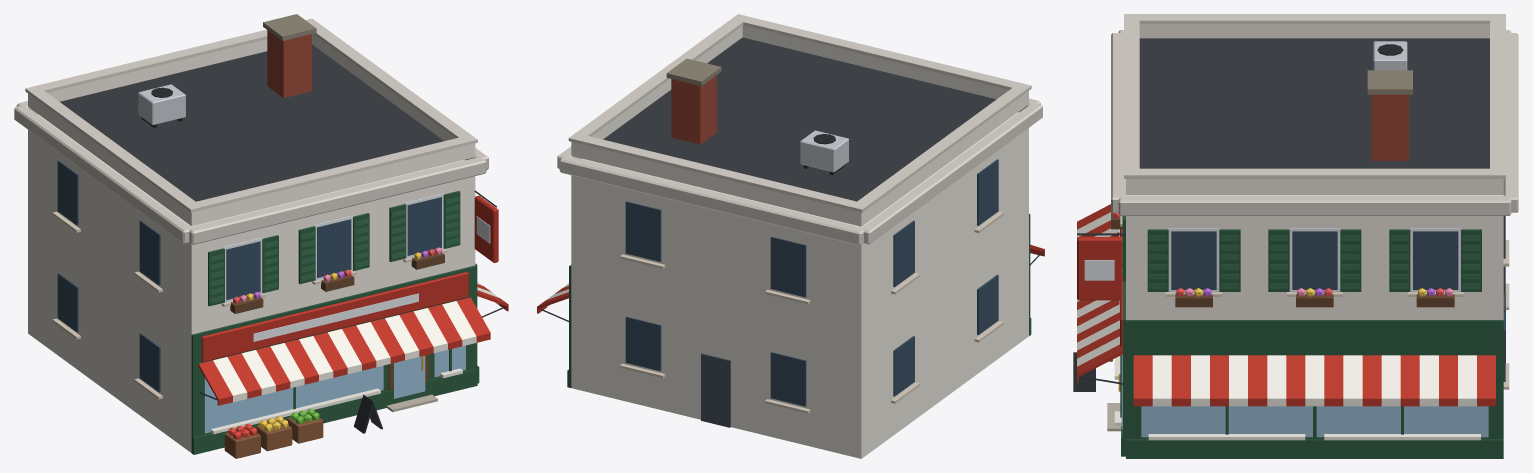
File: shop.glb
3 views of the same model, side by side, from view 1: azimuth 30°, elevation 25°; view 2: azimuth 150°, elevation 25°; view 3: azimuth 270°, elevation 25° (orthographic). The views are drawn at different scales.
Visible parts, largest first — view 1: shop; view 2: shop; view 3: shop.
Part boxes in pixels (box(x1,y1,x2,y2)): shop: box(14, 14, 508, 458); shop: box(537, 14, 1044, 458); shop: box(1073, 14, 1518, 458).
Bounding box in the file's own units: 11.7 × 9.85 × 11.8.
